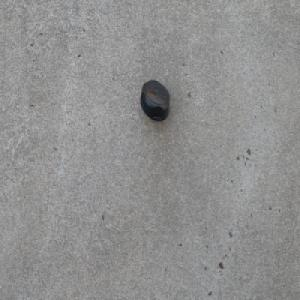FuelCap: (139, 79, 170, 124)
